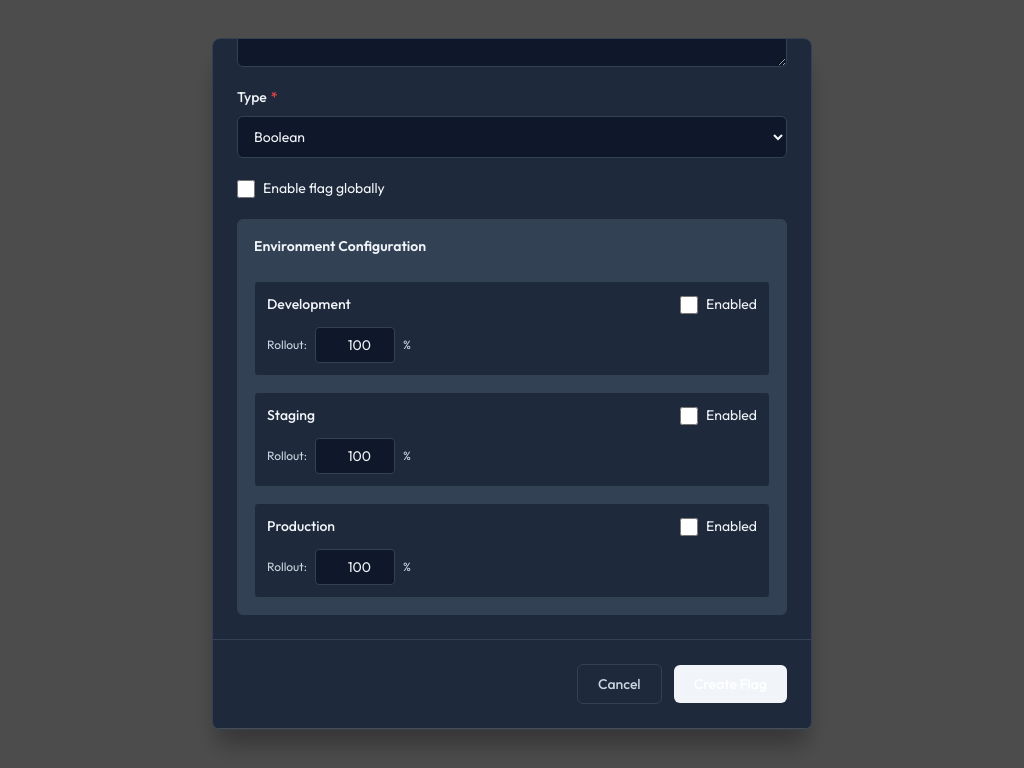
it: CreateFlagModal › Form Validation › should validate required key field
(page scrolled)
Click the button "Create Flag" at (730, 684), box [674,665,787,703]
(page scrolled)
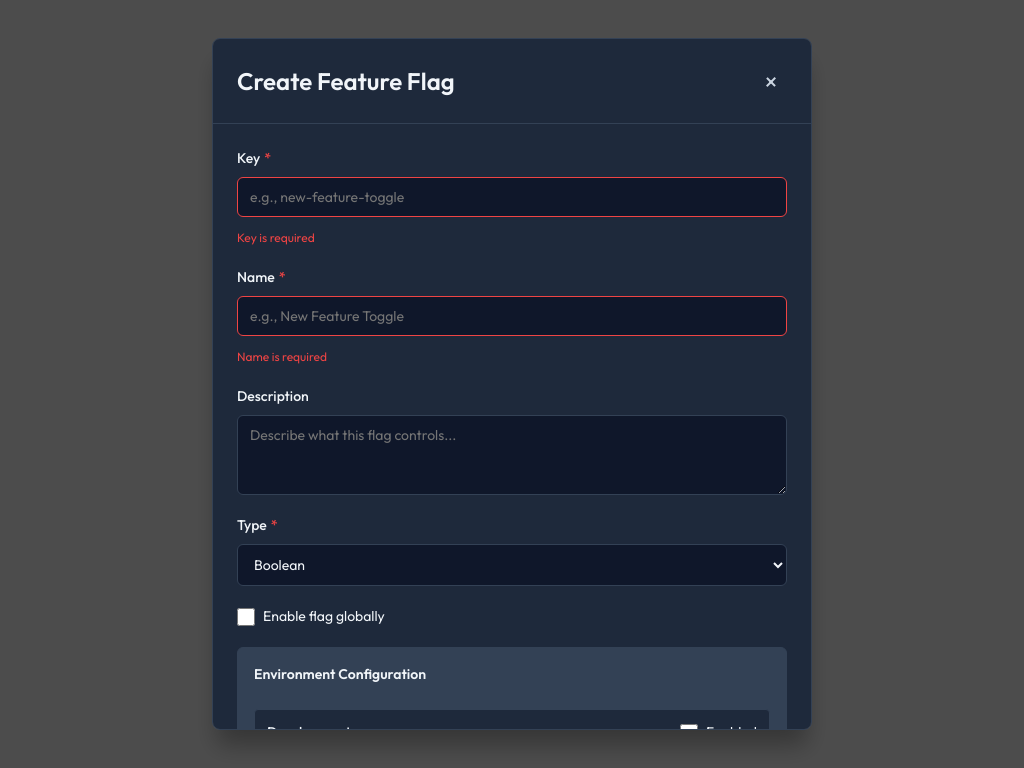
Result: the text "Key is required" is shown at [237,230,315,245]
